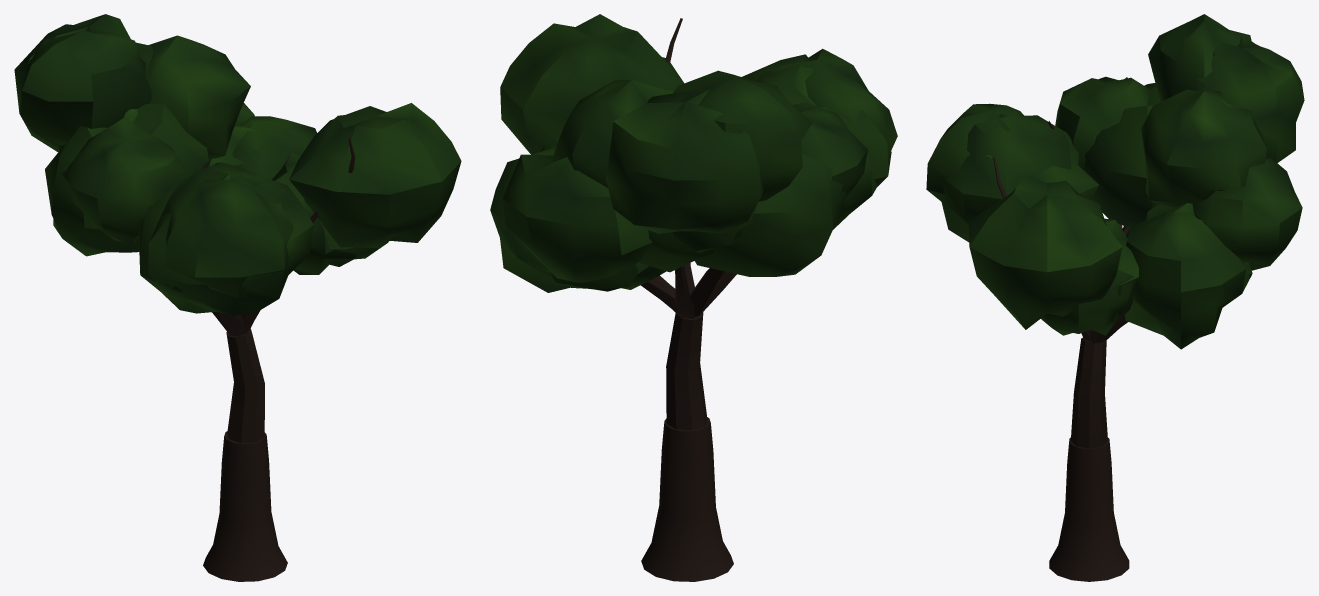
File: hz-camphor-tree.glb
The picture shows the model from 3 angles, left to right: view 1: azimuth 30°, elevation 25°; view 2: azimuth 150°, elevation 25°; view 3: azimuth 270°, elevation 25°; orthographic projection. The views are drawn at different scales.
Parts seen in each view (by area): view 1: crown__plant, trunk__wood; view 2: crown__plant, trunk__wood; view 3: crown__plant, trunk__wood.
Part boxes in pixels (left/top/right/bottom): crown__plant: left=14, top=14, right=461, bottom=315; trunk__wood: left=202, top=138, right=355, bottom=581; crown__plant: left=490, top=14, right=897, bottom=292; trunk__wood: left=640, top=18, right=736, bottom=581; crown__plant: left=926, top=14, right=1304, bottom=349; trunk__wood: left=993, top=121, right=1129, bottom=581.
Size of the model in its own units: 8.53 by 12 by 8.29.
